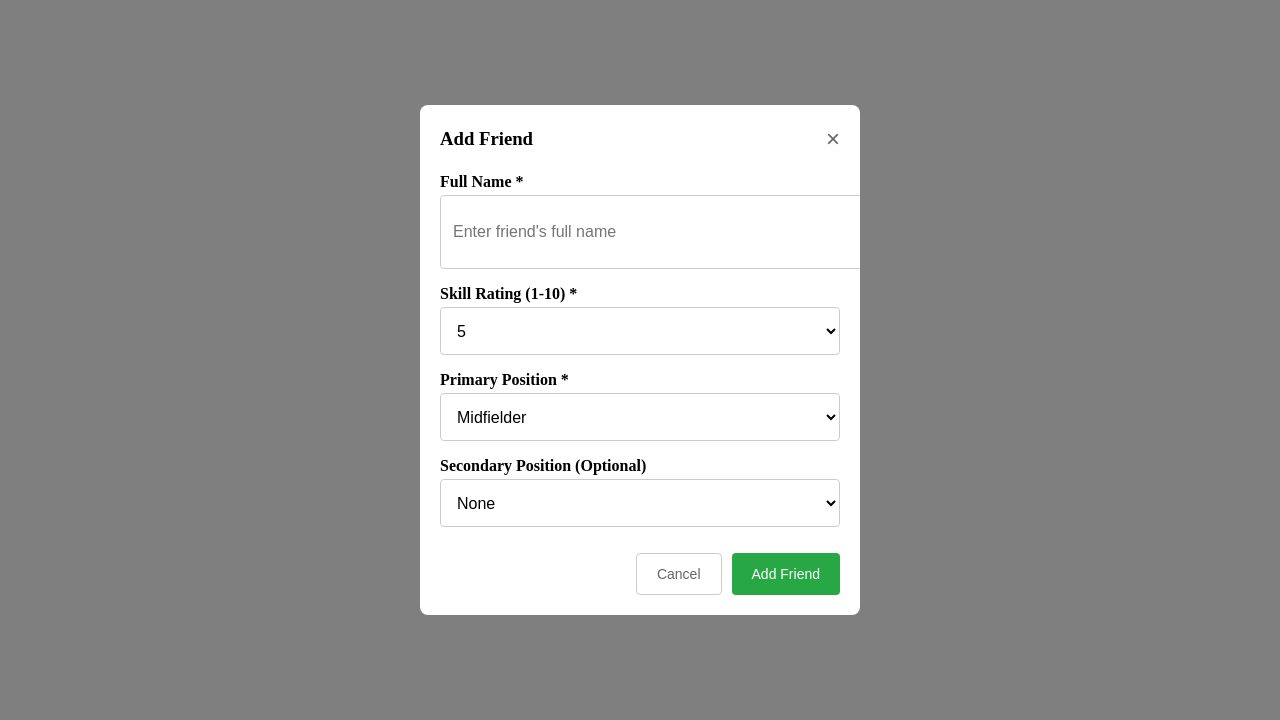
Test case: AddGuestModal › should validate required fields
// Try to submit empty form
Click the button "Add Friend": (786, 574) [732,553,840,595]
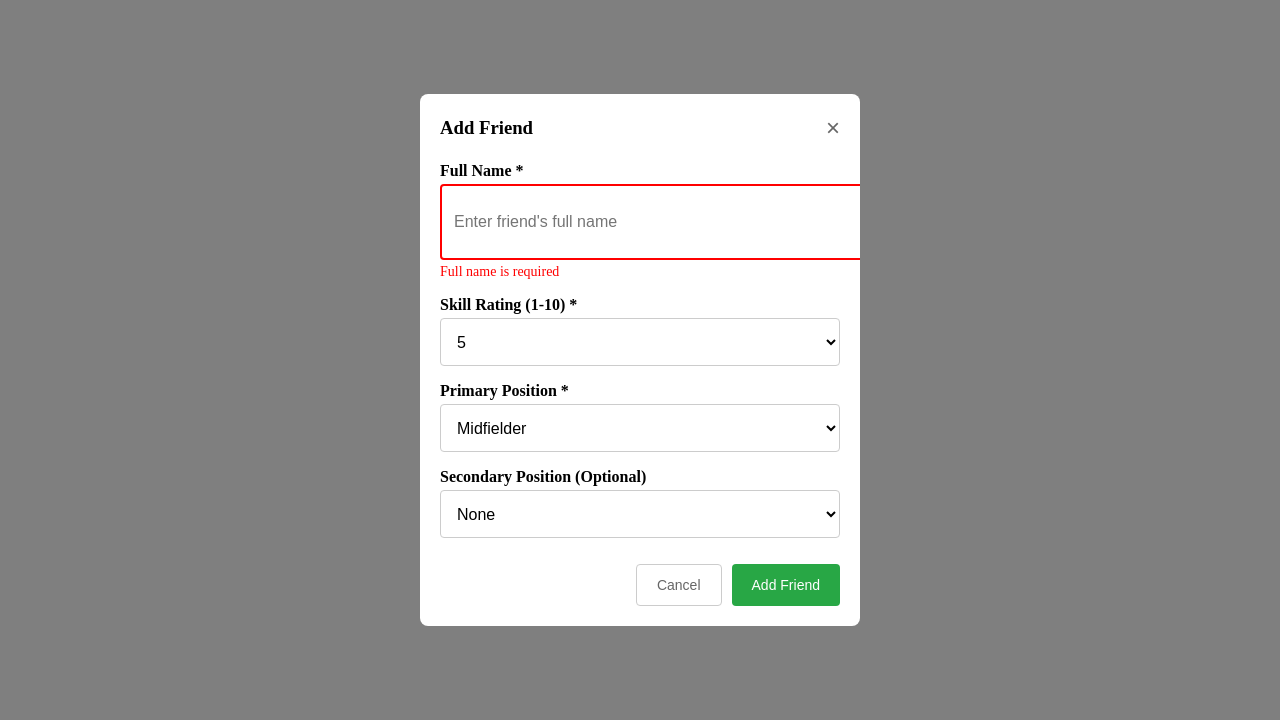
Check: the text "Full name is required" is shown, box [440,264,559,279]
